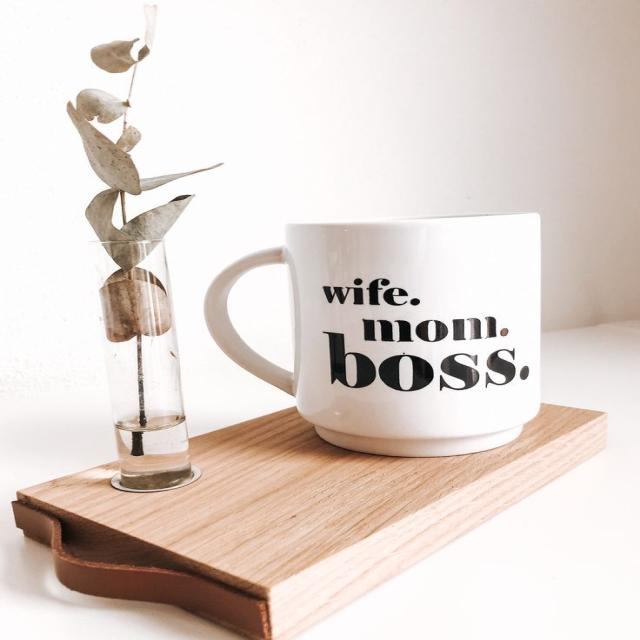glass cup: (205, 212, 543, 458)
